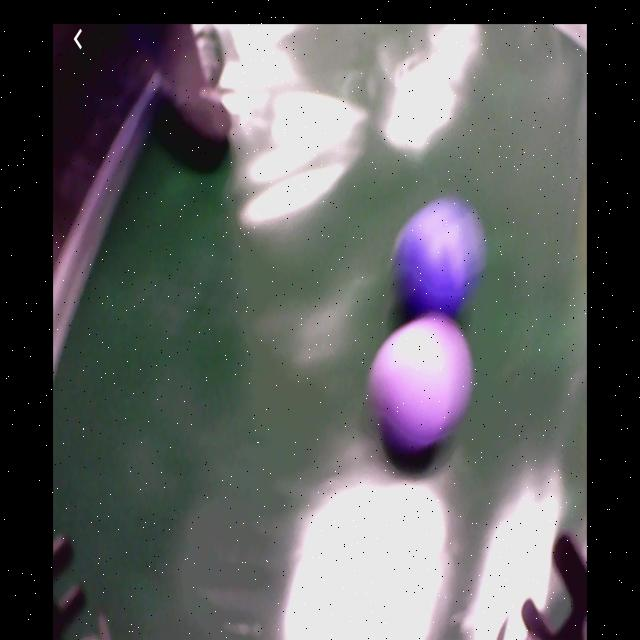ball: (371, 315, 469, 456), (394, 199, 477, 319)
